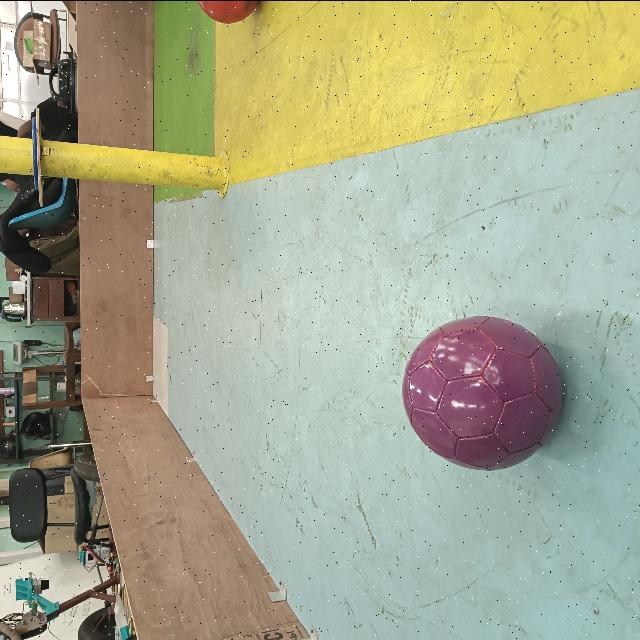P: (398, 309, 568, 473)
R: (196, 1, 260, 26)
